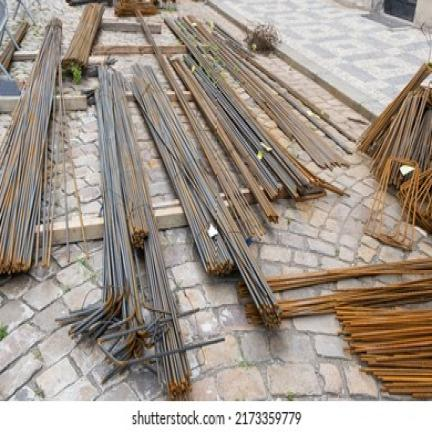besi_tidak_karat: (133, 64, 279, 327), (95, 64, 193, 394), (0, 14, 65, 277)
karat: (273, 283, 431, 415)
